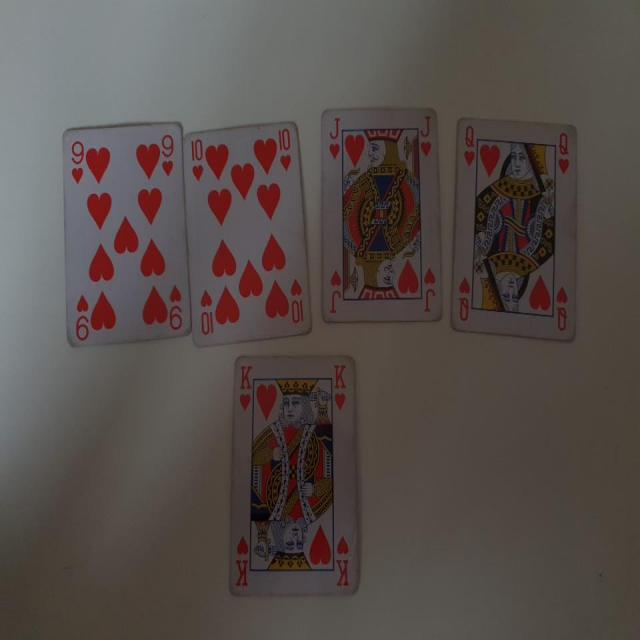10 Hearts: (181, 108, 316, 346)
9 Hearts: (59, 122, 194, 357)
J Hearts: (316, 97, 449, 326)
K Hearts: (227, 352, 362, 599)
Q Hearts: (448, 113, 581, 346)
